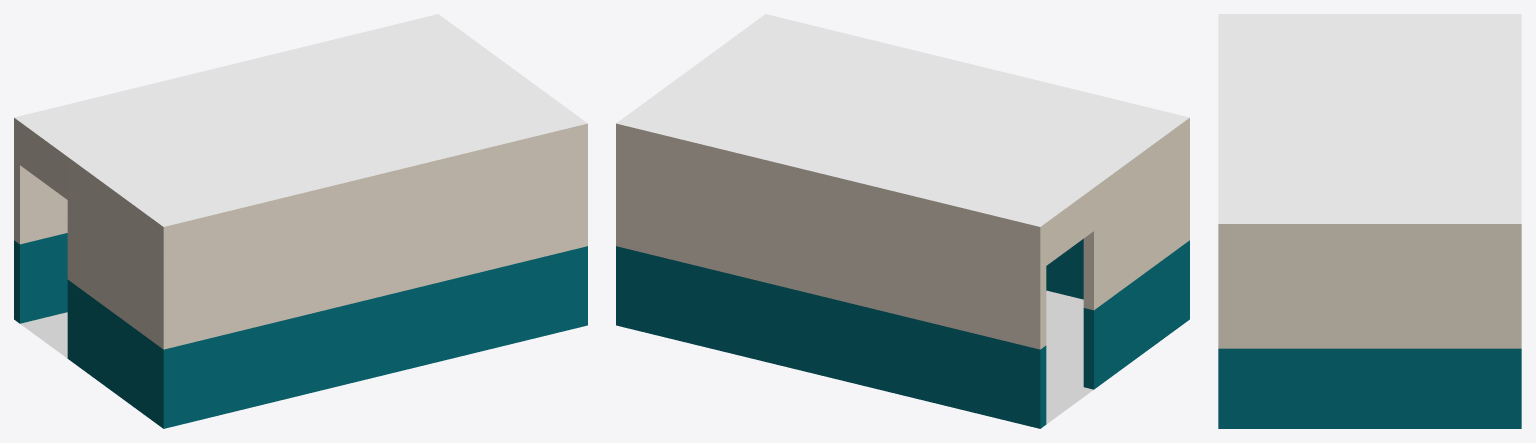
Rendered from ARQ-14.fbx.
The picture shows the model from 3 angles, left to right: view 1: azimuth 30°, elevation 25°; view 2: azimuth 150°, elevation 25°; view 3: azimuth 270°, elevation 25°; orthographic projection.
Parts seen in each view (by area): view 1: Pared, Techo, Piso; view 2: Pared, Techo, Piso; view 3: Techo, Pared.
Part boxes in pixels (x1,y1,x2,y2): Pared: [14, 118, 587, 428]; Techo: [14, 14, 587, 226]; Piso: [20, 312, 67, 358]; Pared: [616, 118, 1189, 428]; Techo: [616, 14, 1189, 226]; Piso: [1046, 290, 1093, 424]; Techo: [1218, 14, 1521, 223]; Pared: [1218, 224, 1521, 428].
Bounding box in the file's own units: 616 × 280 × 376.
